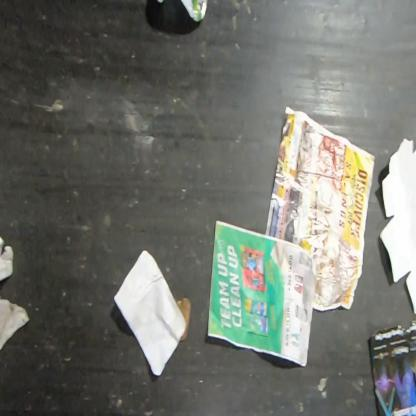cardboard: (113, 248, 187, 376), (378, 136, 415, 315), (176, 296, 192, 342)
soft_plastic: (180, 0, 209, 23)
